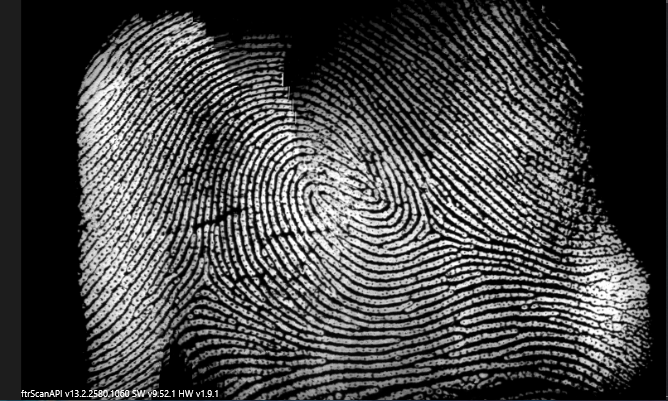deltas: (405, 198, 463, 252), (178, 254, 229, 307)
nucleo: (295, 162, 359, 223)
